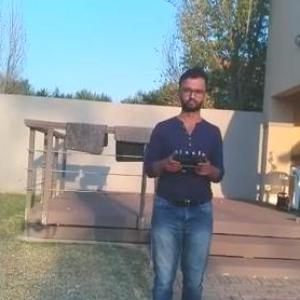follow: (135, 60, 227, 299)
